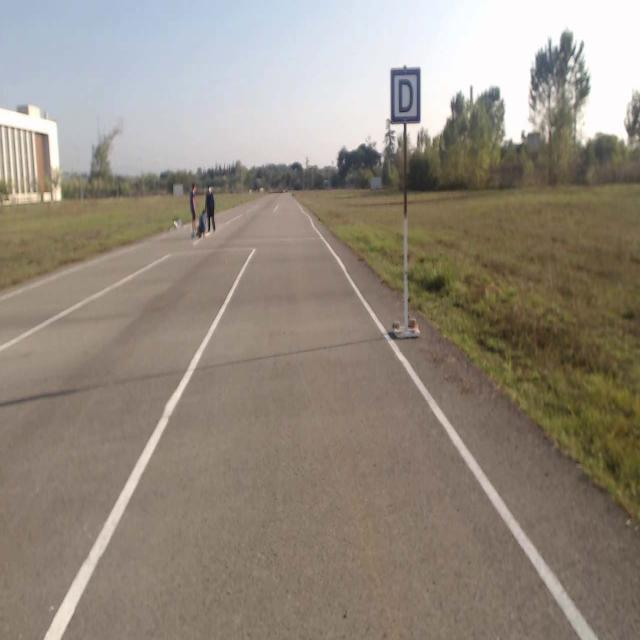durak: (390, 69, 420, 122)
